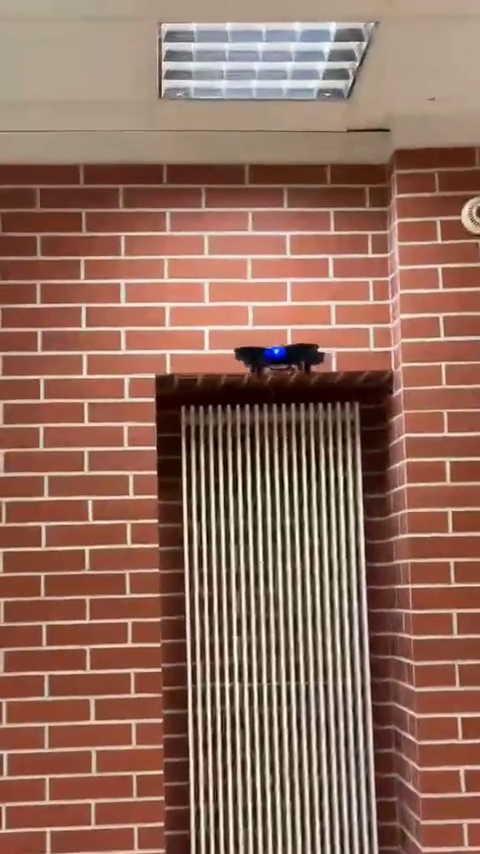drone: (233, 342, 324, 372)
